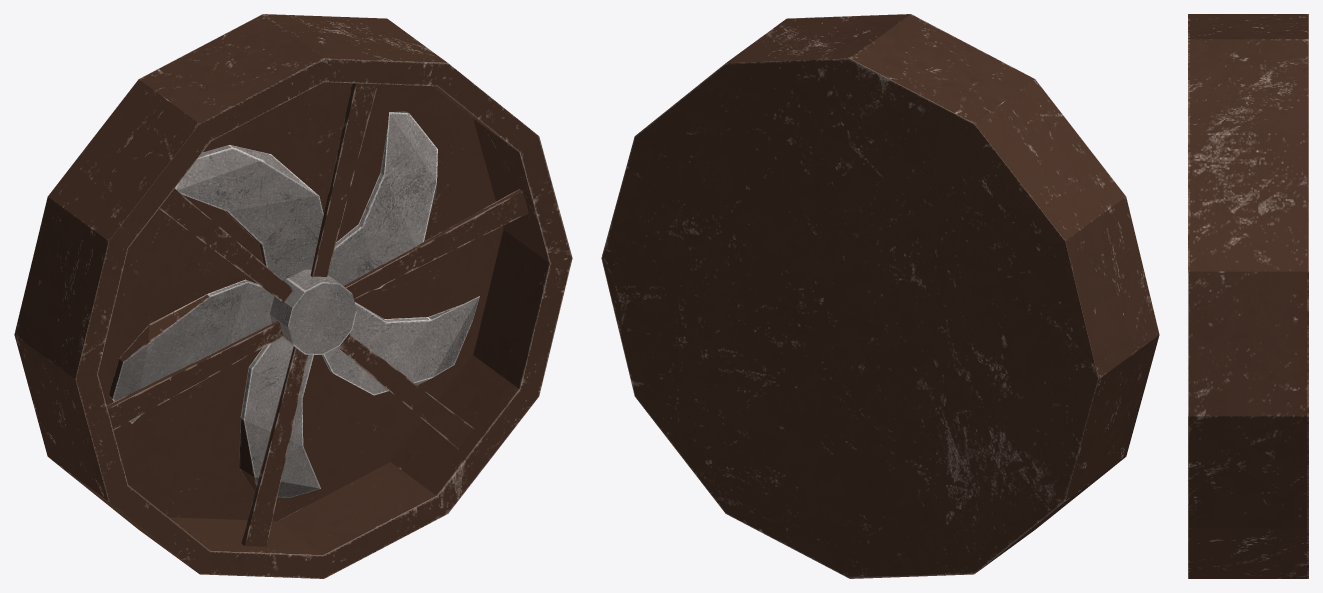
File: FanMini2.gltf
3 renders of one model, left to right at view 1: azimuth 30°, elevation 25°; view 2: azimuth 150°, elevation 25°; view 3: azimuth 270°, elevation 25°, orthographic.
Visible parts, largest first — view 1: Cylinder.016, Ostrza.002; view 2: Cylinder.016; view 3: Cylinder.016.
Part boxes in pixels (box(x1,y1,x2,y2)): Cylinder.016: box(14, 14, 572, 578); Ostrza.002: box(108, 111, 479, 497); Cylinder.016: box(601, 14, 1159, 578); Cylinder.016: box(1188, 14, 1308, 578).
Bounding box in the file's own units: 2.25 × 2.25 × 0.4789.
1 material, 1 textured.
